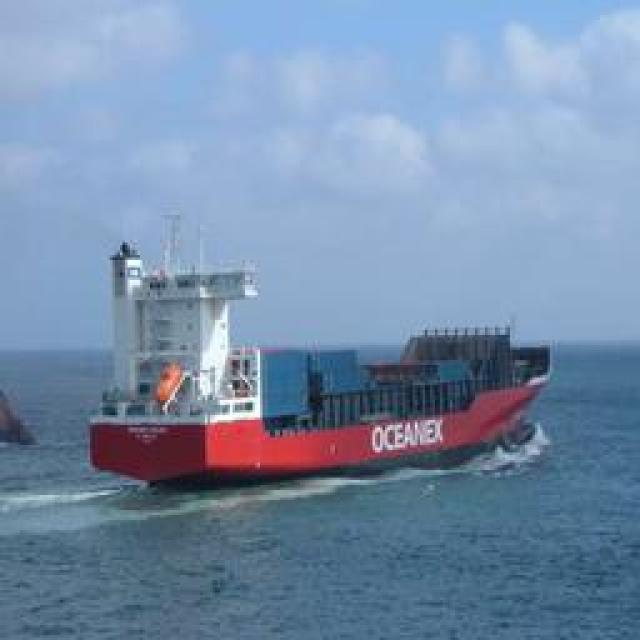CIV_Ship: (84, 222, 564, 488)
